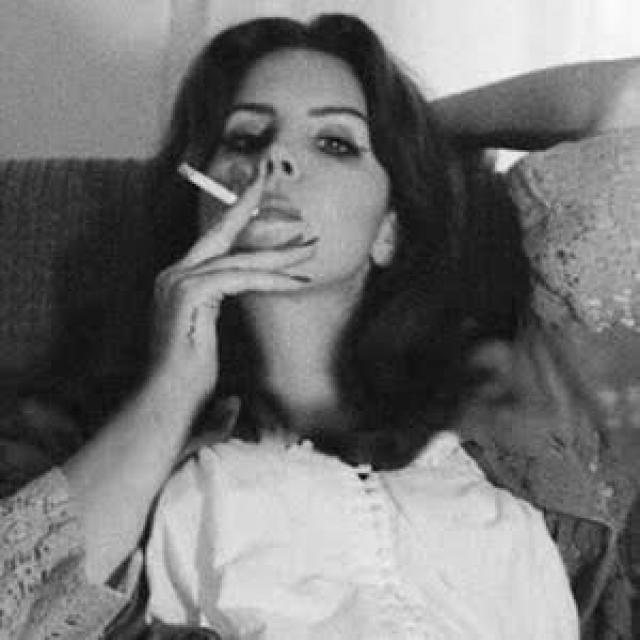rokok: (175, 158, 245, 206)
